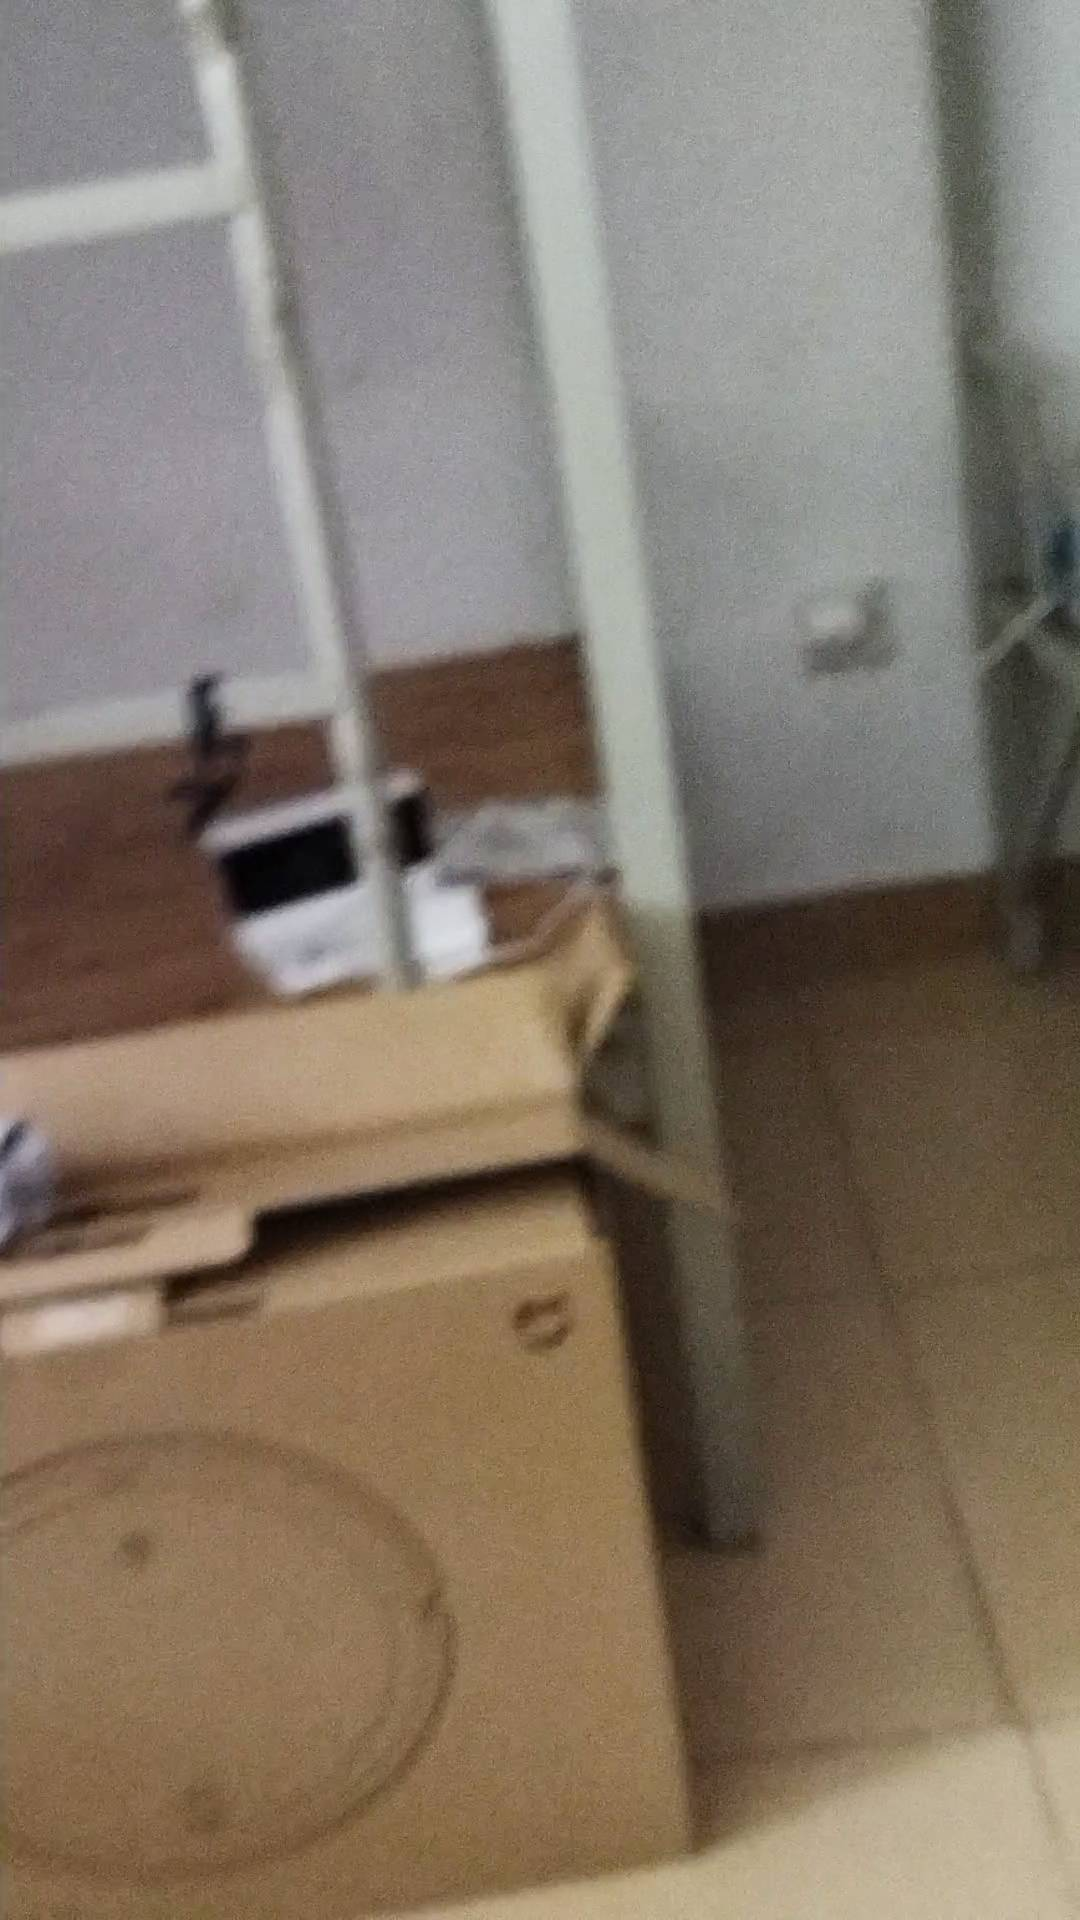recharge seat: (200, 767, 462, 998)
